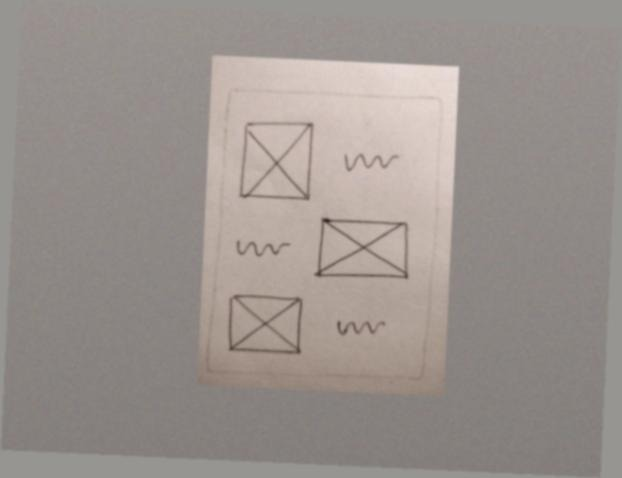image: (311, 214, 417, 286), (235, 117, 318, 205), (222, 289, 308, 357)
text: (337, 141, 406, 181), (326, 312, 395, 343), (230, 230, 294, 263)
